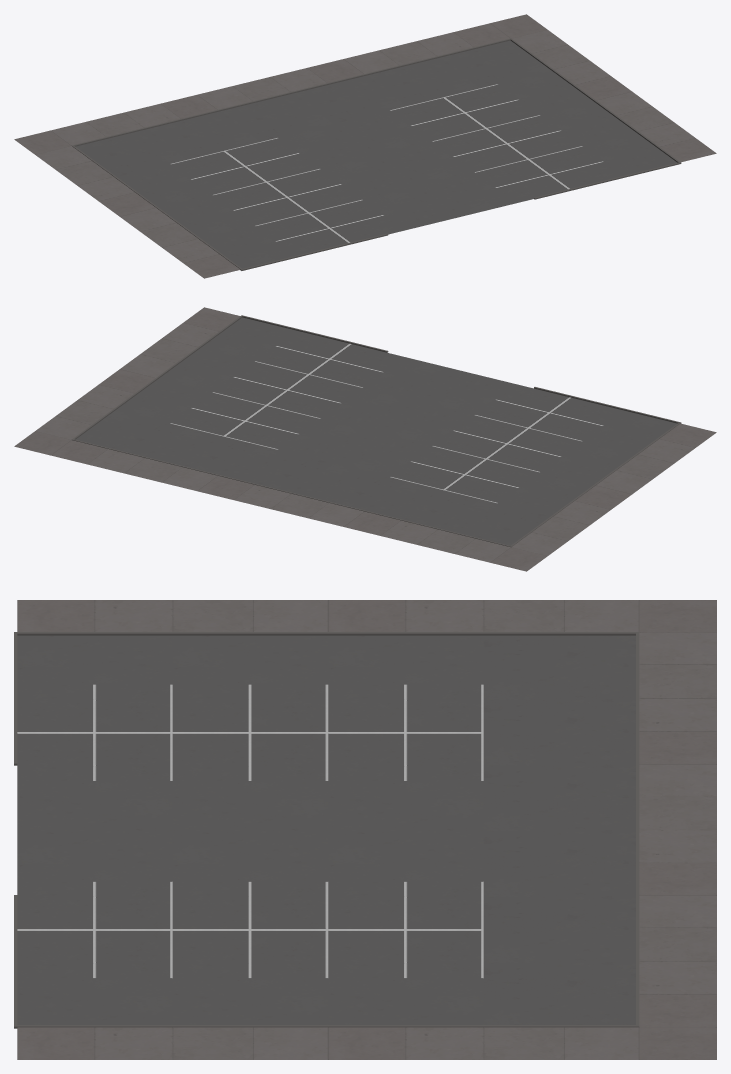
File: SM_Floor_Parking_04.fbx
3 views of the same model, one above another, from view 1: azimuth 30°, elevation 25°; view 2: azimuth 150°, elevation 25°; view 3: azimuth 270°, elevation 25° (orthographic). The views are drawn at different scales.
Visible parts, largest first — view 1: SM_Floor_Parking_04; view 2: SM_Floor_Parking_04; view 3: SM_Floor_Parking_04.
Boxes of the visible parts, bbox=[...] form: SM_Floor_Parking_04: bbox=[14, 14, 716, 278]; SM_Floor_Parking_04: bbox=[14, 307, 716, 571]; SM_Floor_Parking_04: bbox=[14, 600, 716, 1059].
Size of the model in its own units: 35 by 0.075 by 22.61.
